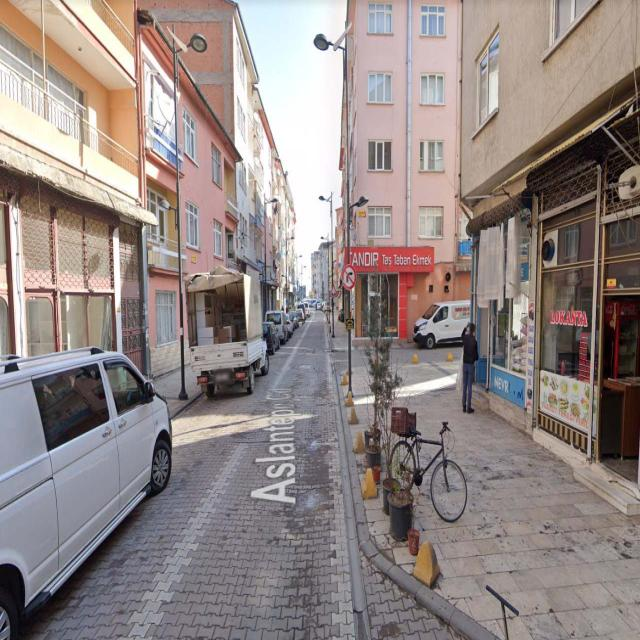sagadonulmez: (343, 266, 356, 290)
